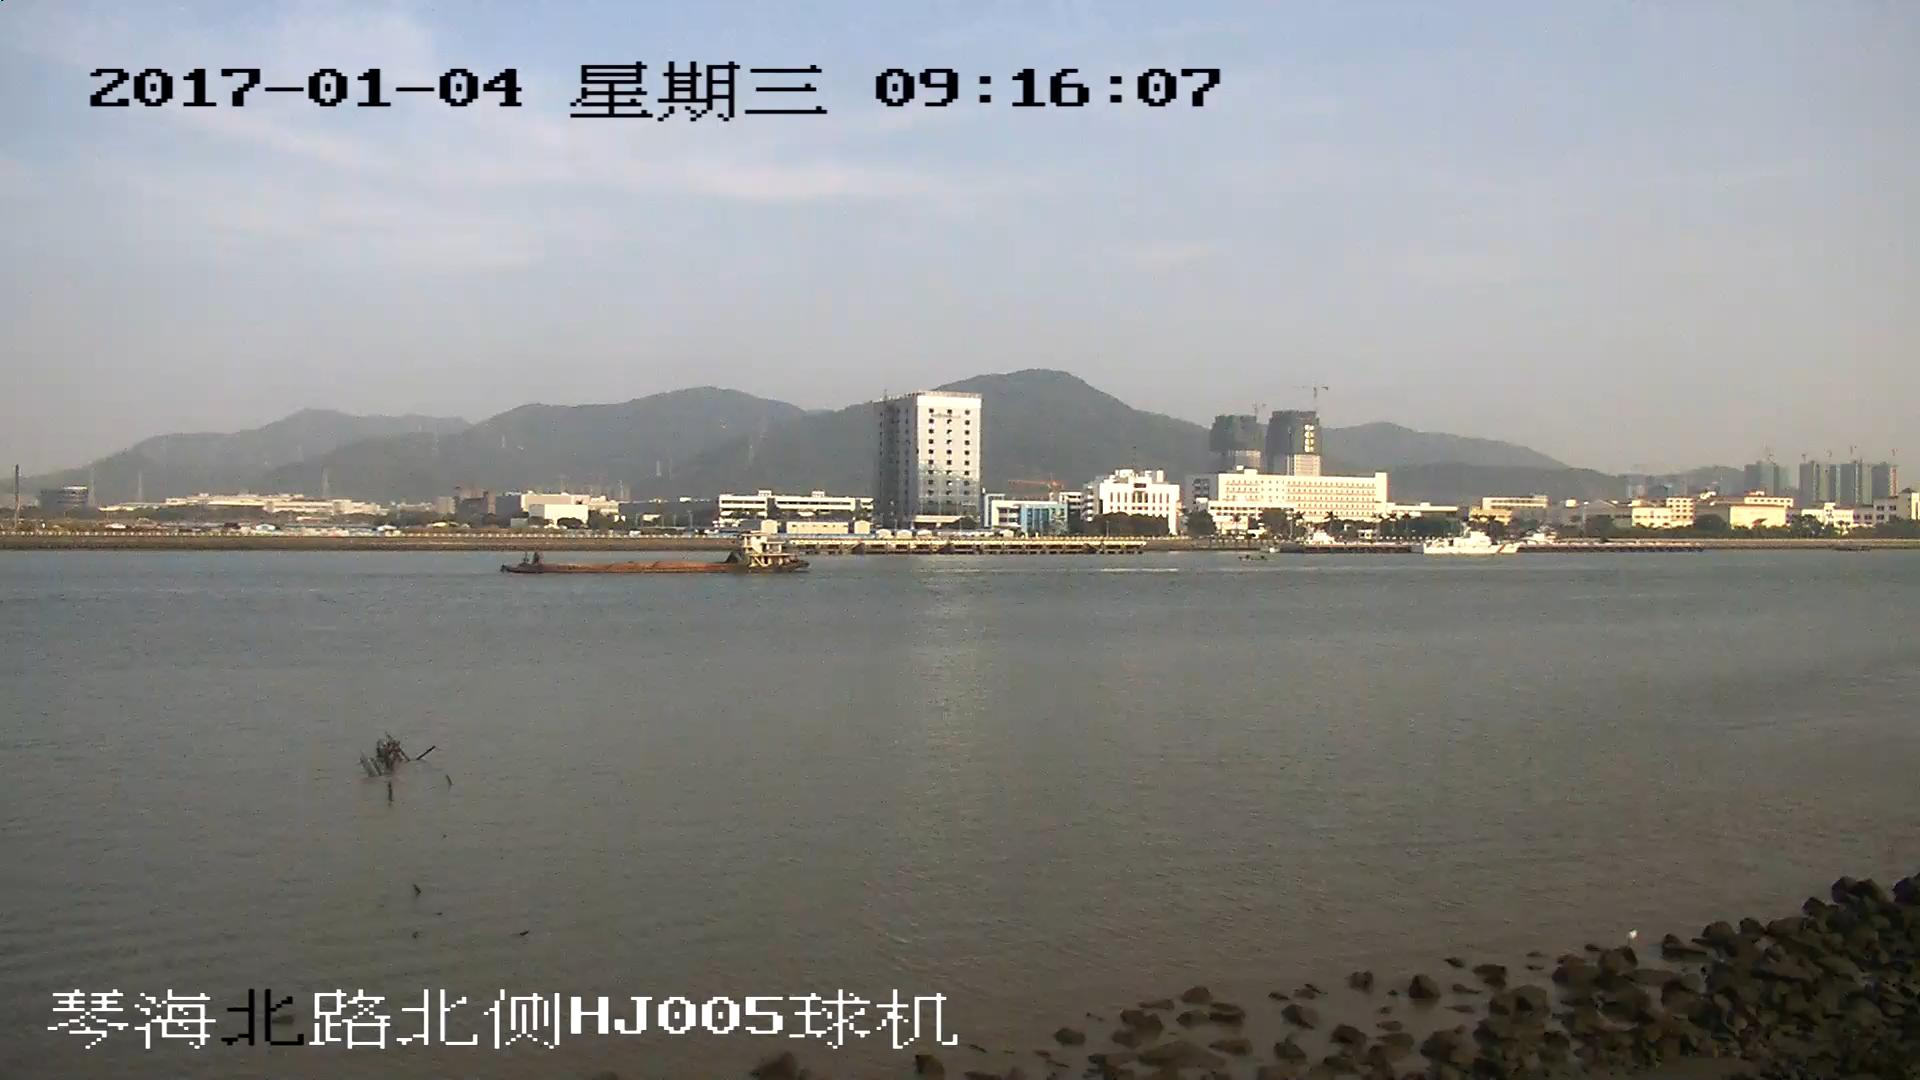ore carrier: (502, 531, 811, 572)
